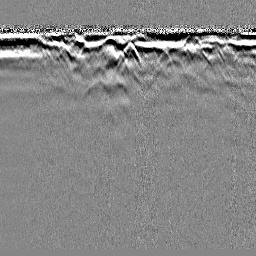cavity: (117, 38, 142, 68)
